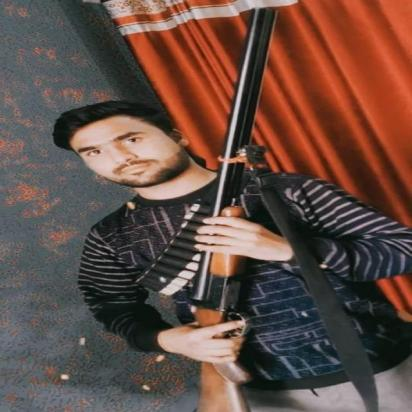Gun: (184, 4, 285, 412)
